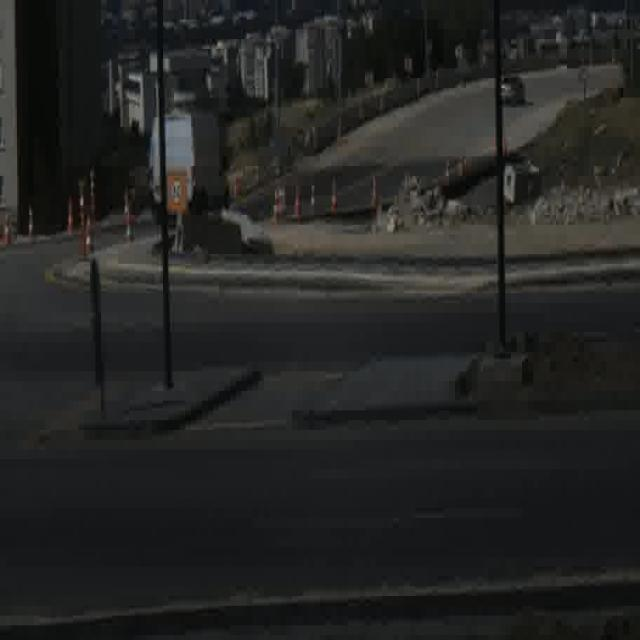Car: (148, 117, 228, 230), (502, 72, 524, 106)
